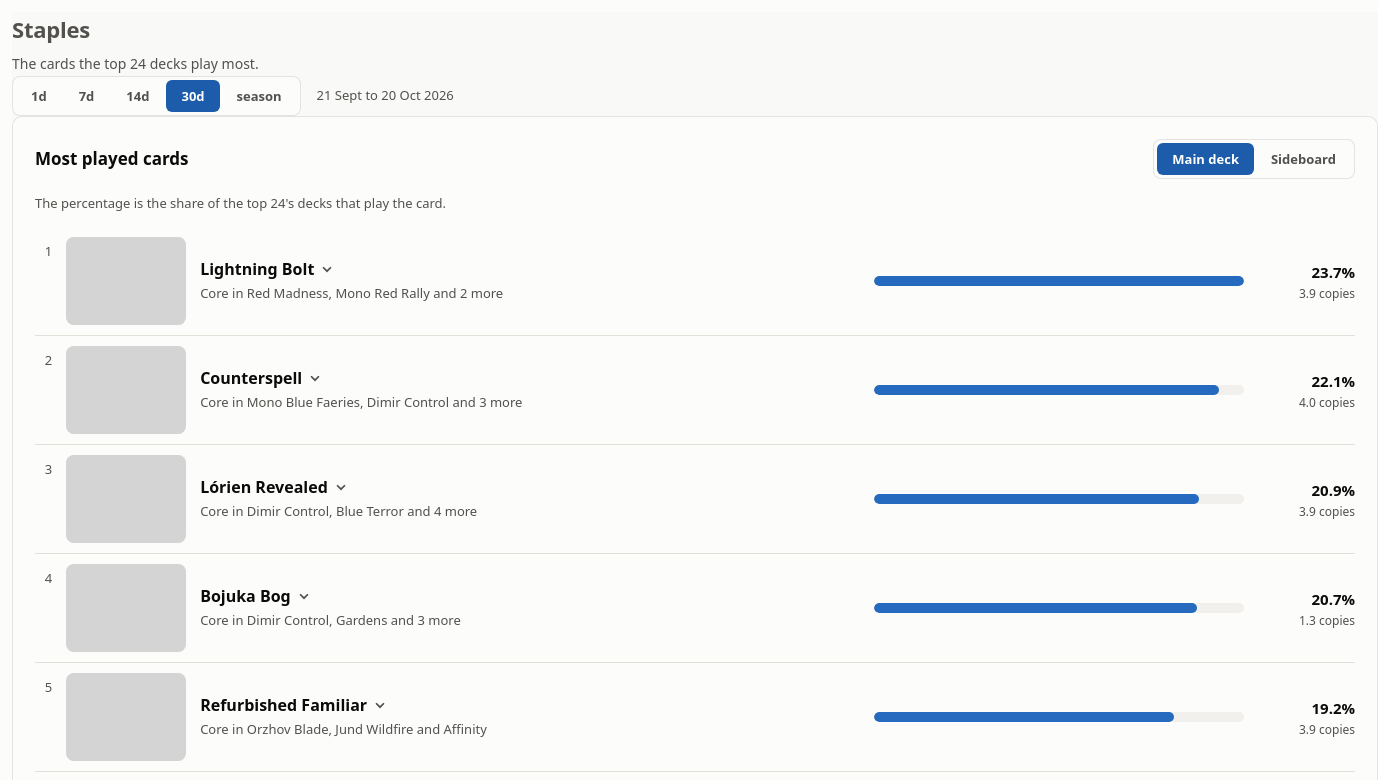
Test: StaplesPage › marks the switch busy while the other list loads, and idle once it arrives
Expected: the text "Lightning Bolt" is shown, [200,259,314,279]
Click the button "Sideboard". click: [1304, 159]
box: [1256,143,1351,175]
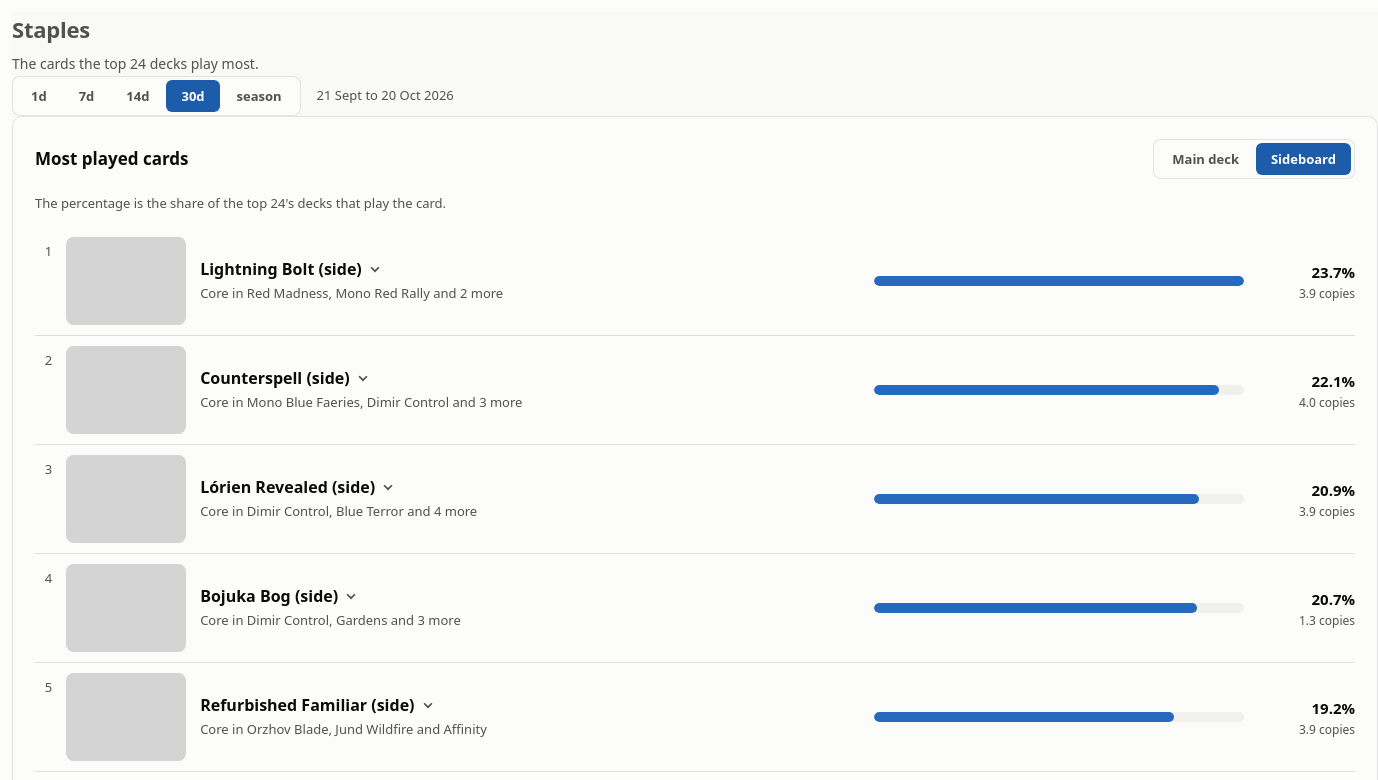
Now the text "Lightning Bolt (side)" is shown, box [200,259,362,279]
